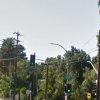Tree: (9, 30, 100, 95)
